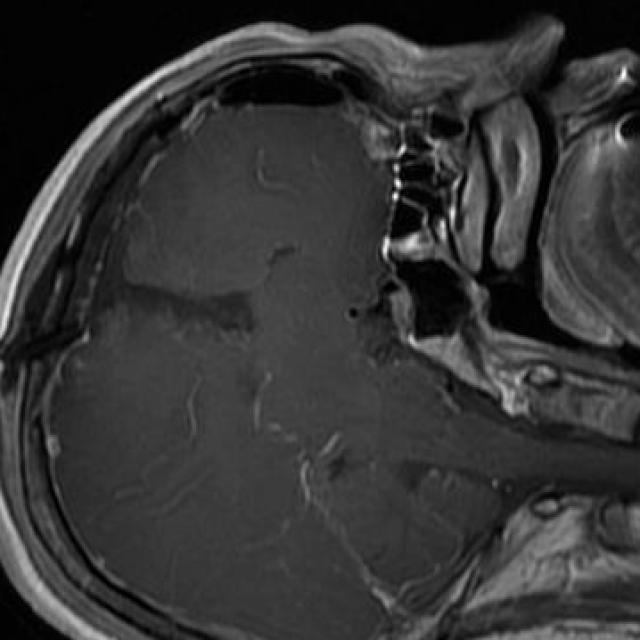glioma: (50, 210, 255, 355)
